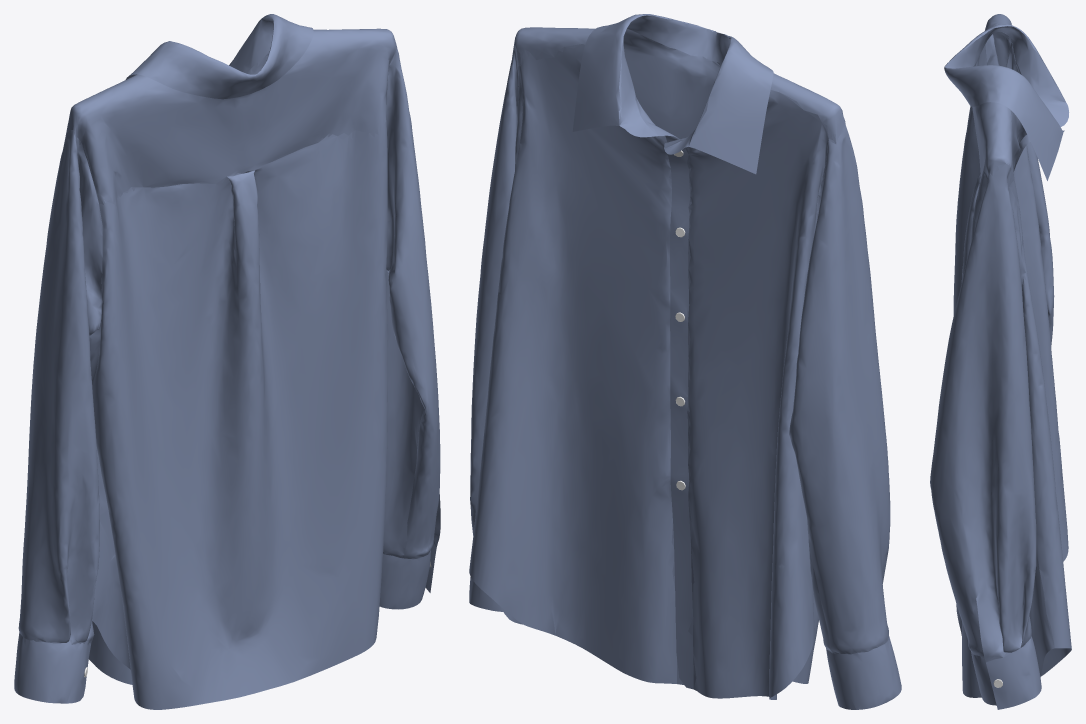
3 views of the same model, side by side, from view 1: azimuth 30°, elevation 25°; view 2: azimuth 150°, elevation 25°; view 3: azimuth 270°, elevation 25° (orthographic). The views are drawn at different scales.
Visible parts, largest first — view 1: Shirt_mens_00; view 2: Shirt_mens_00; view 3: Shirt_mens_00.
Part boxes in pixels (x1,y1,x2,y2): Shirt_mens_00: (14, 14, 440, 709); Shirt_mens_00: (469, 14, 901, 709); Shirt_mens_00: (930, 14, 1071, 709).
Bounding box in the file's own units: 0.412 × 0.6182 × 0.1301.
